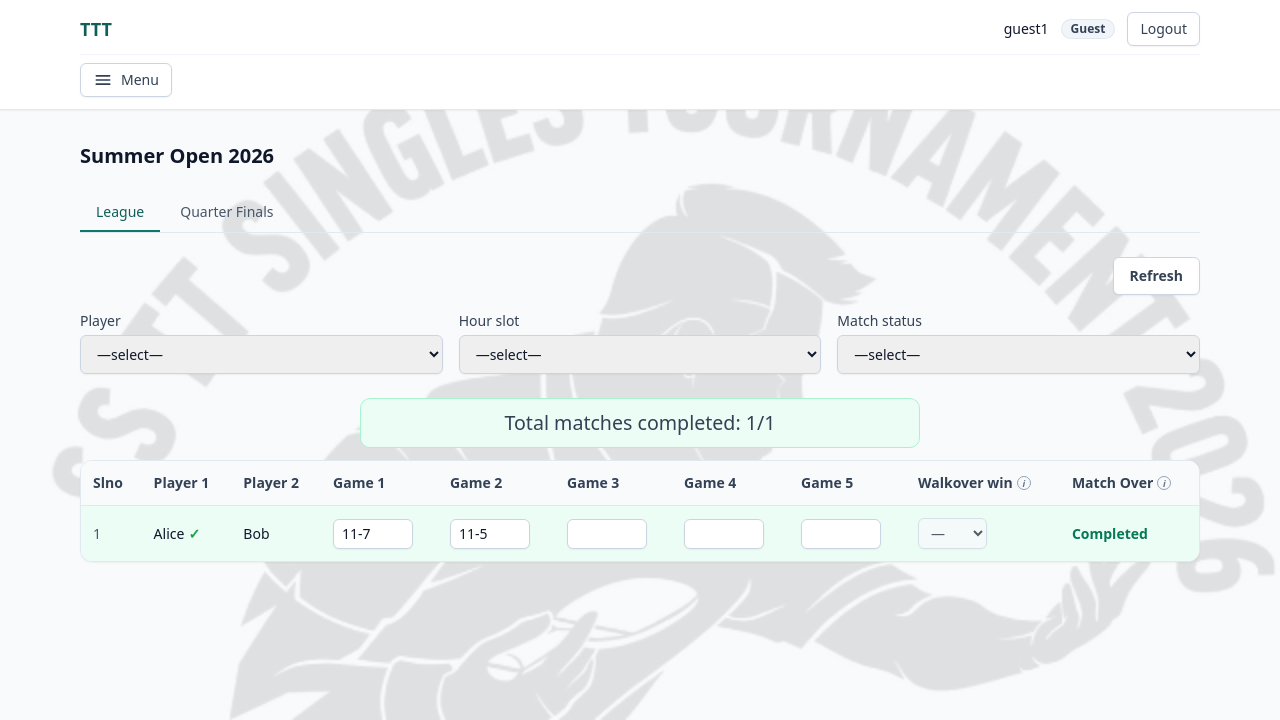
Scores filters › filters matches by completion status
Expected: the field named "game1 for match 1" is shown, [333, 519, 413, 549]
Step 1. Select "Pending matches" in the dropdown labelled "Match status" → (1019, 354), box [837, 335, 1200, 374]
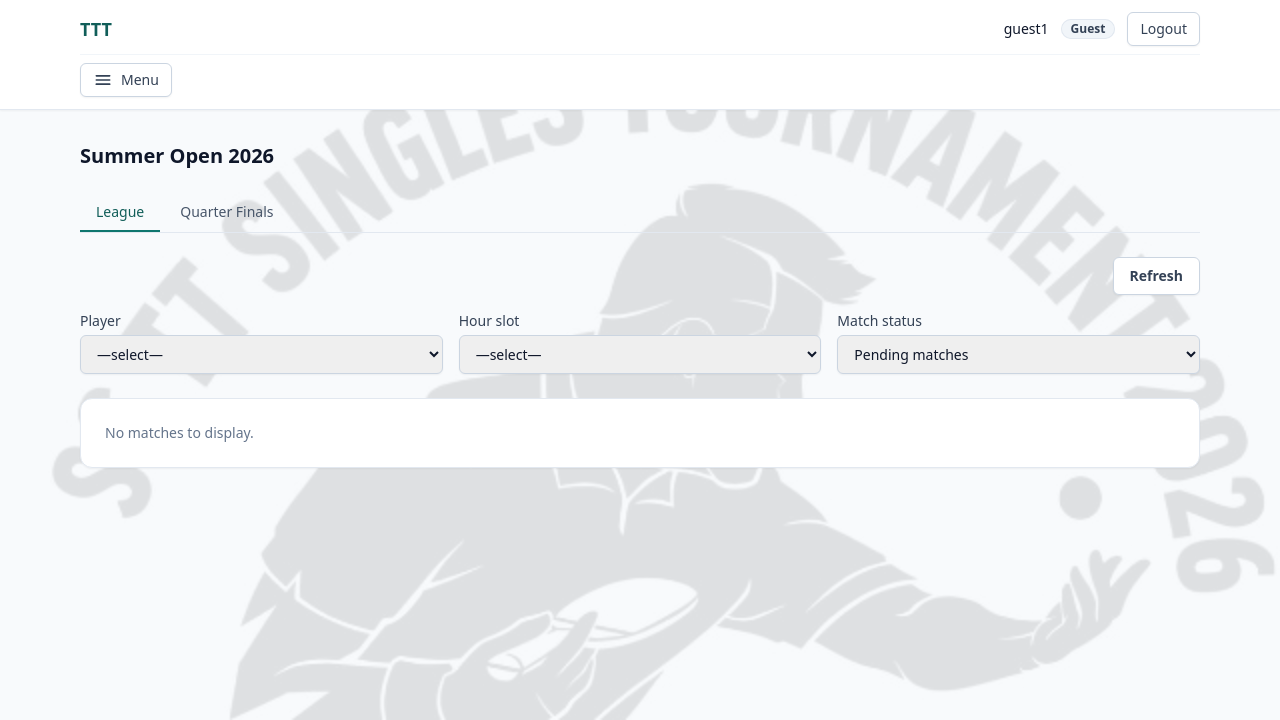
Expected: the text "No matches to display." is shown, [80, 398, 1200, 468]
Step 2. Select "Completed matches" in the dropdown labelled "Match status" → (1019, 354), box [837, 335, 1200, 374]
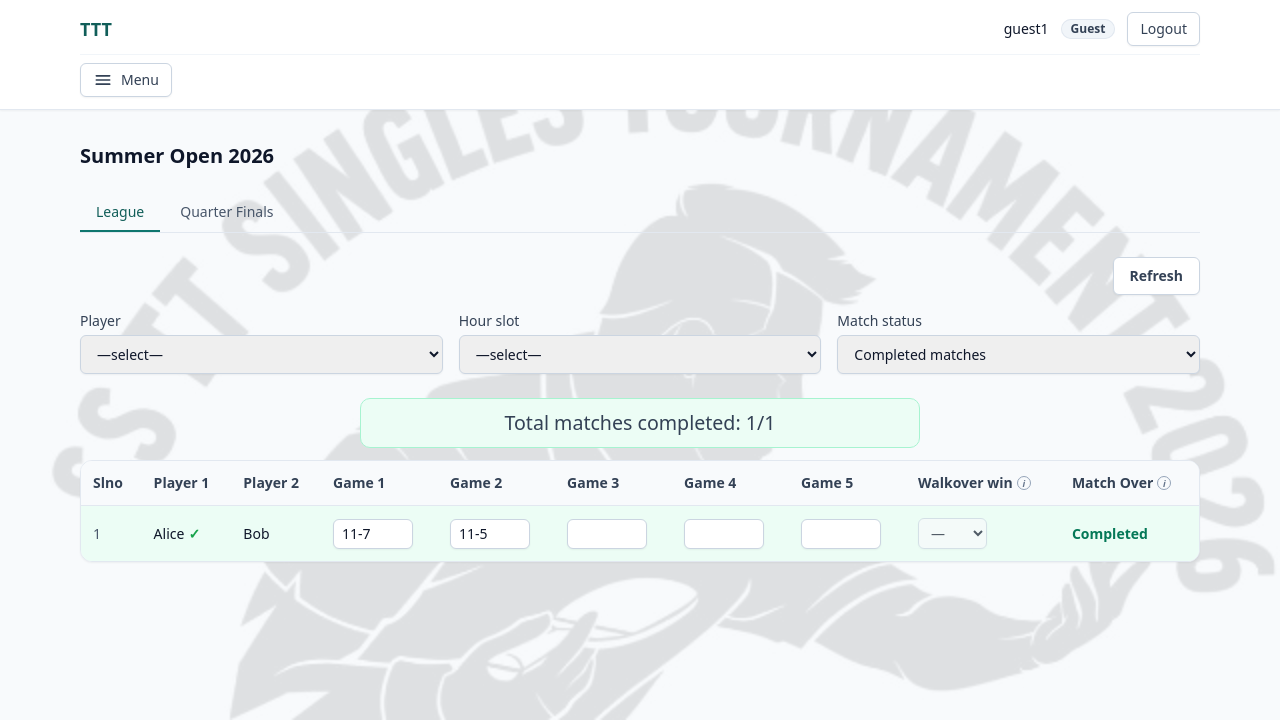
Expected: the field named "game1 for match 1" is shown, [333, 519, 413, 549]
